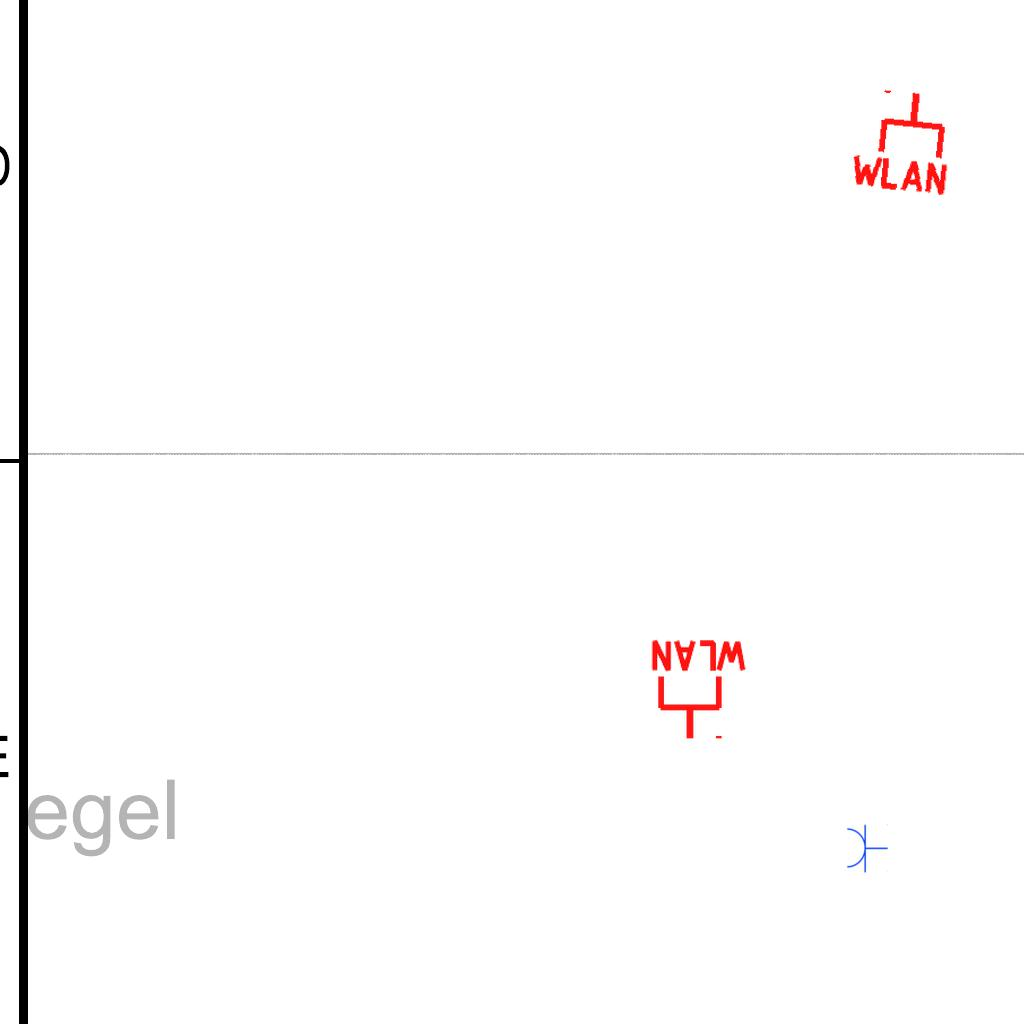Schukosteckdose_einfach: (845, 823, 888, 873)
WLAN: (845, 82, 960, 198), (647, 638, 751, 743)
